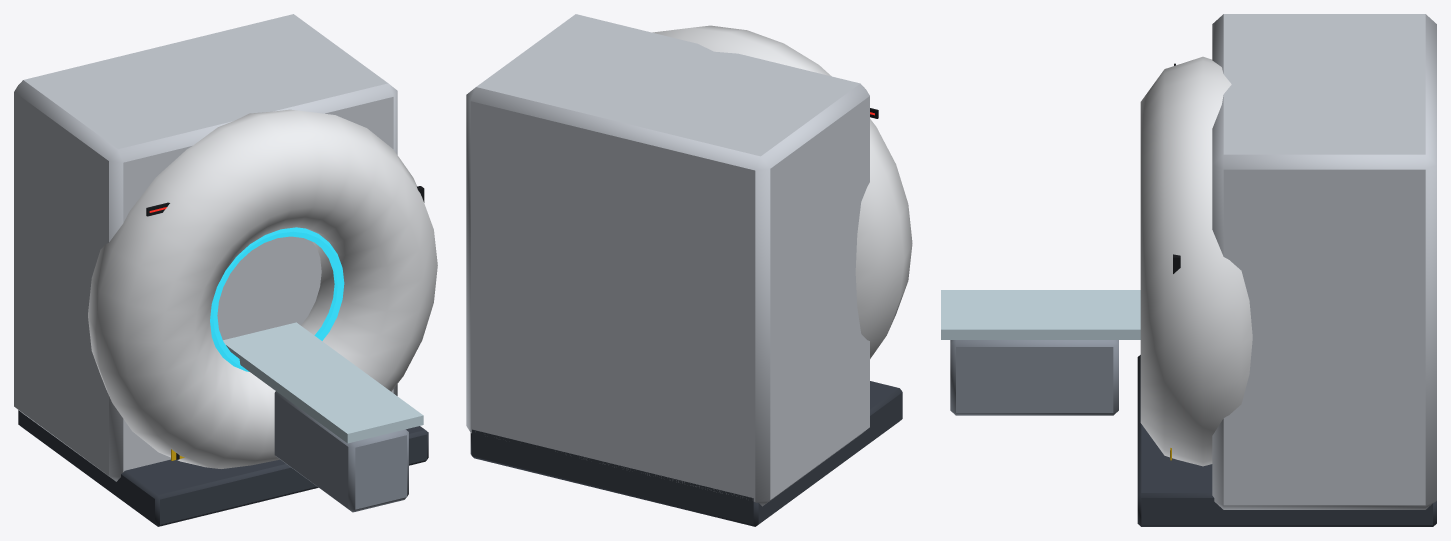
The model's file is medscanner_mri_ring_scanner.glb.
3 renders of one model, left to right at view 1: azimuth 30°, elevation 25°; view 2: azimuth 150°, elevation 25°; view 3: azimuth 270°, elevation 25°, orthographic. The views are drawn at different scales.
Parts seen in each view (by area): view 1: medscanner_mri_ring_scanner; view 2: medscanner_mri_ring_scanner; view 3: medscanner_mri_ring_scanner.
Boxes of the visible parts, x1,y1,x2,y2 form: medscanner_mri_ring_scanner: [14, 14, 437, 526]; medscanner_mri_ring_scanner: [466, 14, 912, 526]; medscanner_mri_ring_scanner: [941, 14, 1436, 526].
Size of the model in its own units: 2.2 by 2.25 by 2.65.
